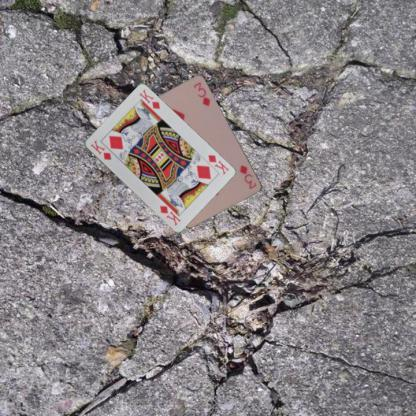3d: (238, 162, 258, 191)
Kd: (88, 137, 112, 162), (205, 152, 230, 176)
